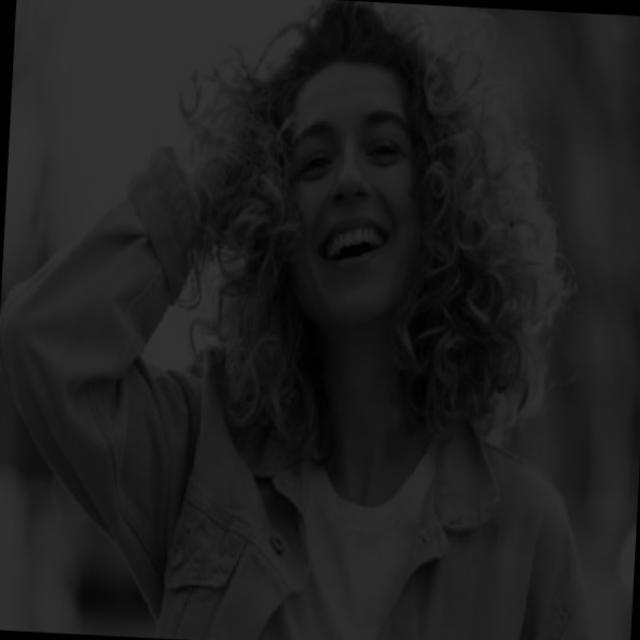happy: (183, 26, 444, 325)
